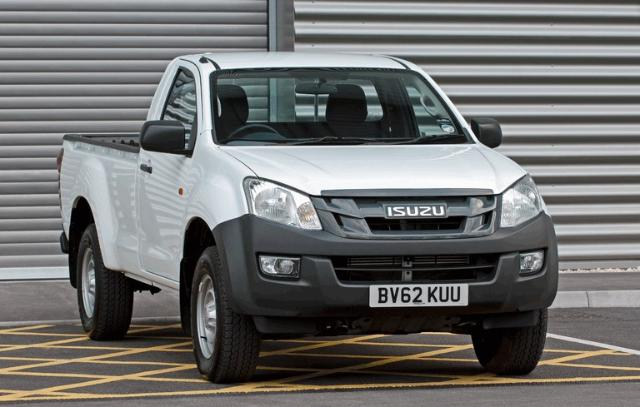pickup-truck: (56, 52, 556, 389)
